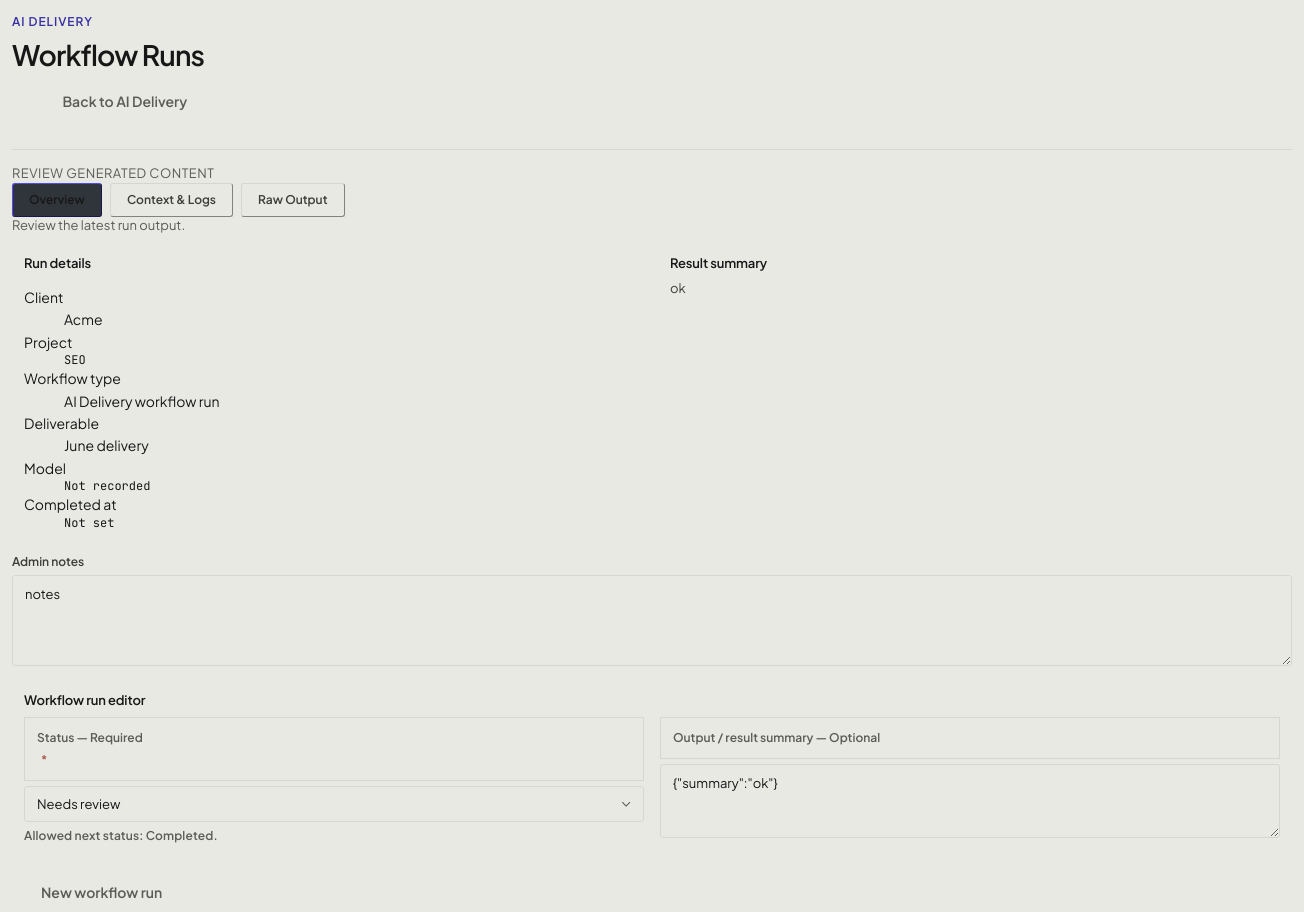
Test: AiRunReviewModal › shows history empty state when no runs exist
Click the tab "Context & Logs": coordinates (171, 200) [110,183,233,217]
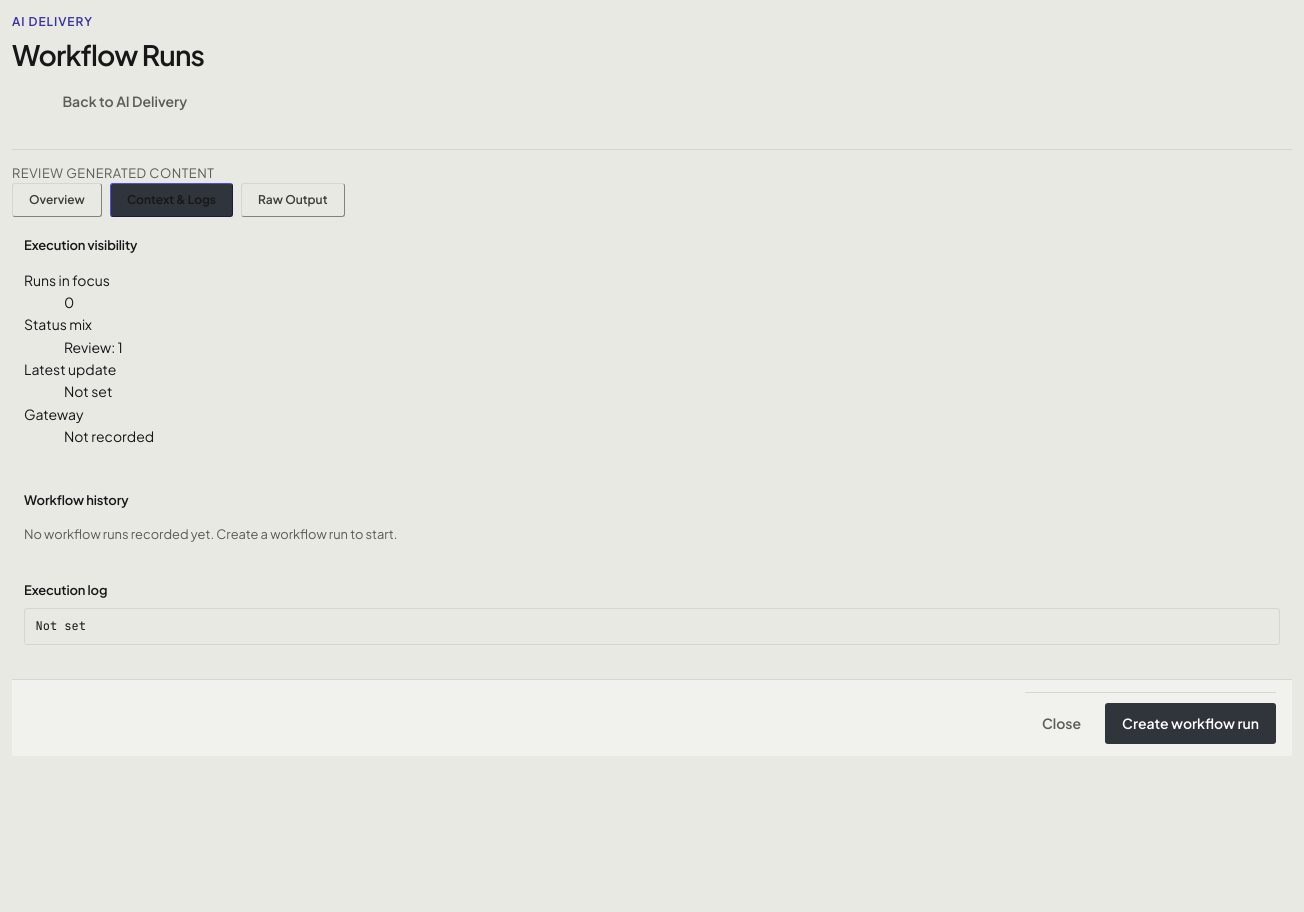
Expected: the text "No workflow runs recorded yet. Create a workflow run to start." is shown, [24,526,397,542]
